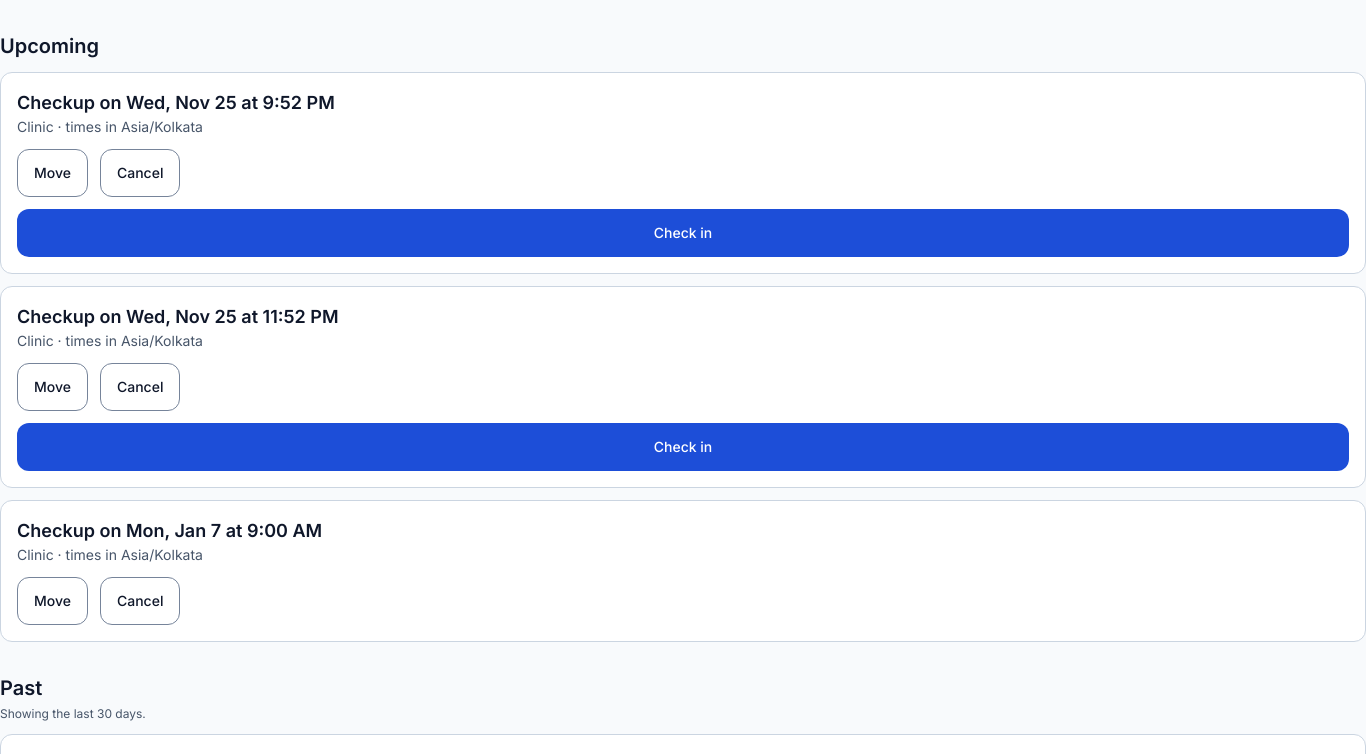
a browser clock two hours off the server's › two hours slow: one that started an hour ago is listed as upcoming; the server refuses its cancel
This screenshot has width=1366, height=754.
Expected: the text "Checkup on Mon, Jan 7 at 9:00 AM" is shown, [17,520,322,541]
Click the button named "Cancel Checkup": x=140, y=173 [100,149,180,197]
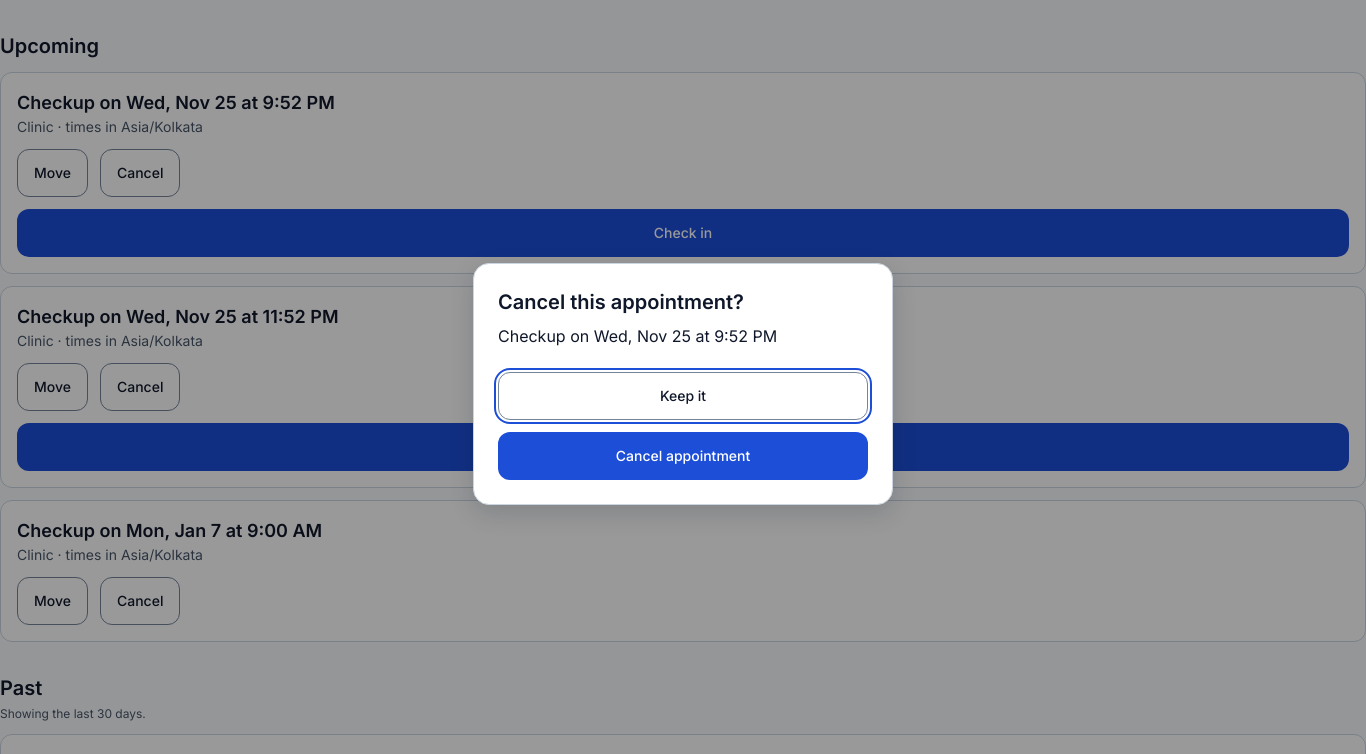
Click the button "Cancel appointment": x=683, y=456 [498,432,868,480]
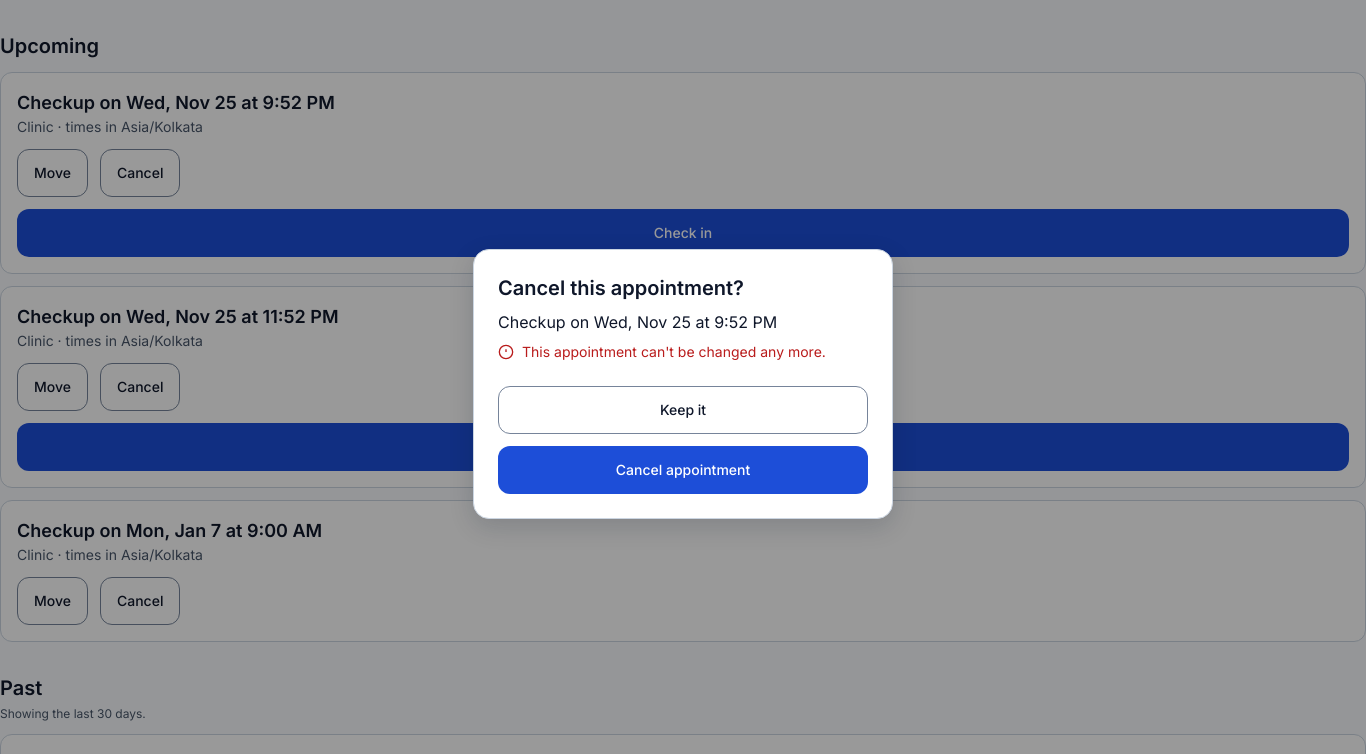
Now the message reads "This appointment can't be changed any more.", box [522,343,826,360]
